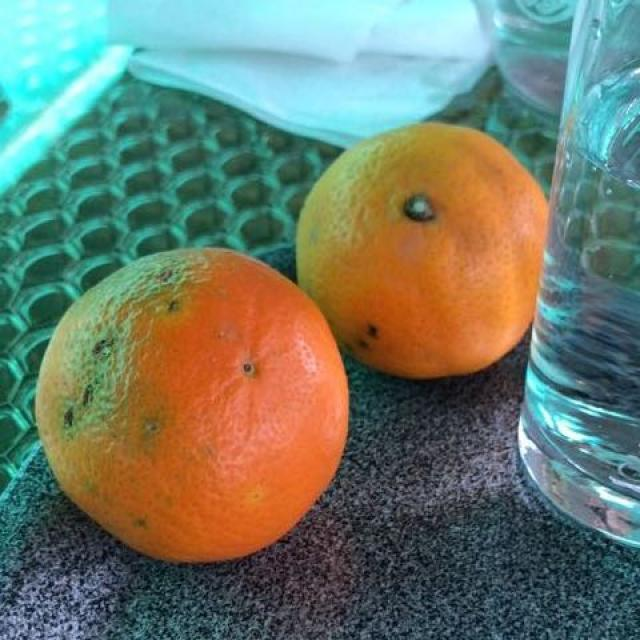Orange: (27, 234, 360, 574), (288, 113, 550, 390)
